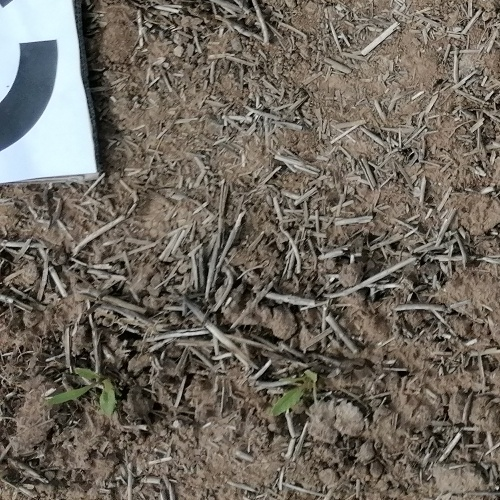beet: (45, 363, 120, 418), (270, 372, 319, 420)
